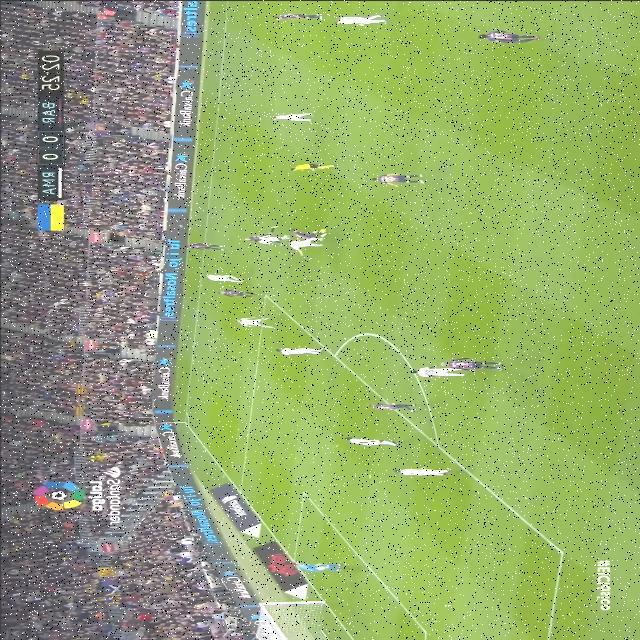ball: (437, 381, 483, 397)
goalkeeper: (281, 553, 374, 591)
player: (383, 459, 480, 493), (323, 434, 423, 460), (358, 167, 441, 195), (257, 8, 336, 34), (190, 262, 261, 288), (265, 341, 332, 367), (259, 108, 330, 132), (403, 361, 480, 383), (358, 397, 427, 421), (324, 9, 397, 31), (439, 356, 510, 378), (466, 29, 543, 49), (206, 284, 269, 308), (225, 314, 285, 338), (276, 239, 330, 258), (182, 238, 234, 256)
referee: (281, 157, 352, 193)
